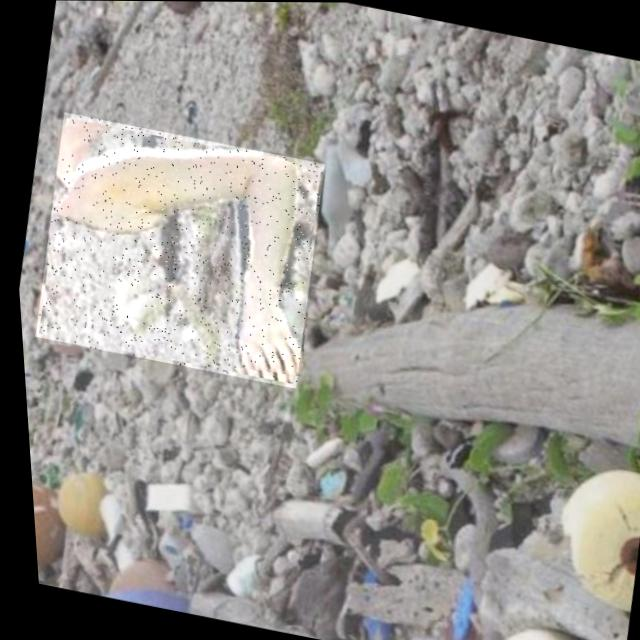Person in Rubble: (19, 111, 335, 388)
